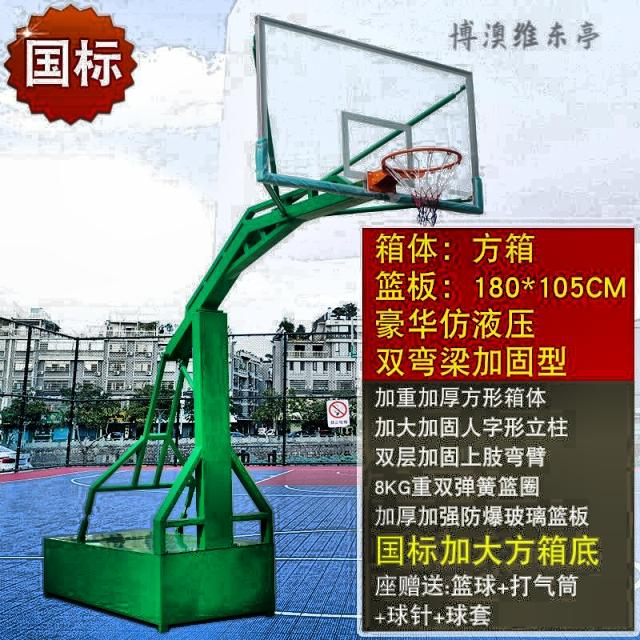rim: (382, 146, 463, 224)
